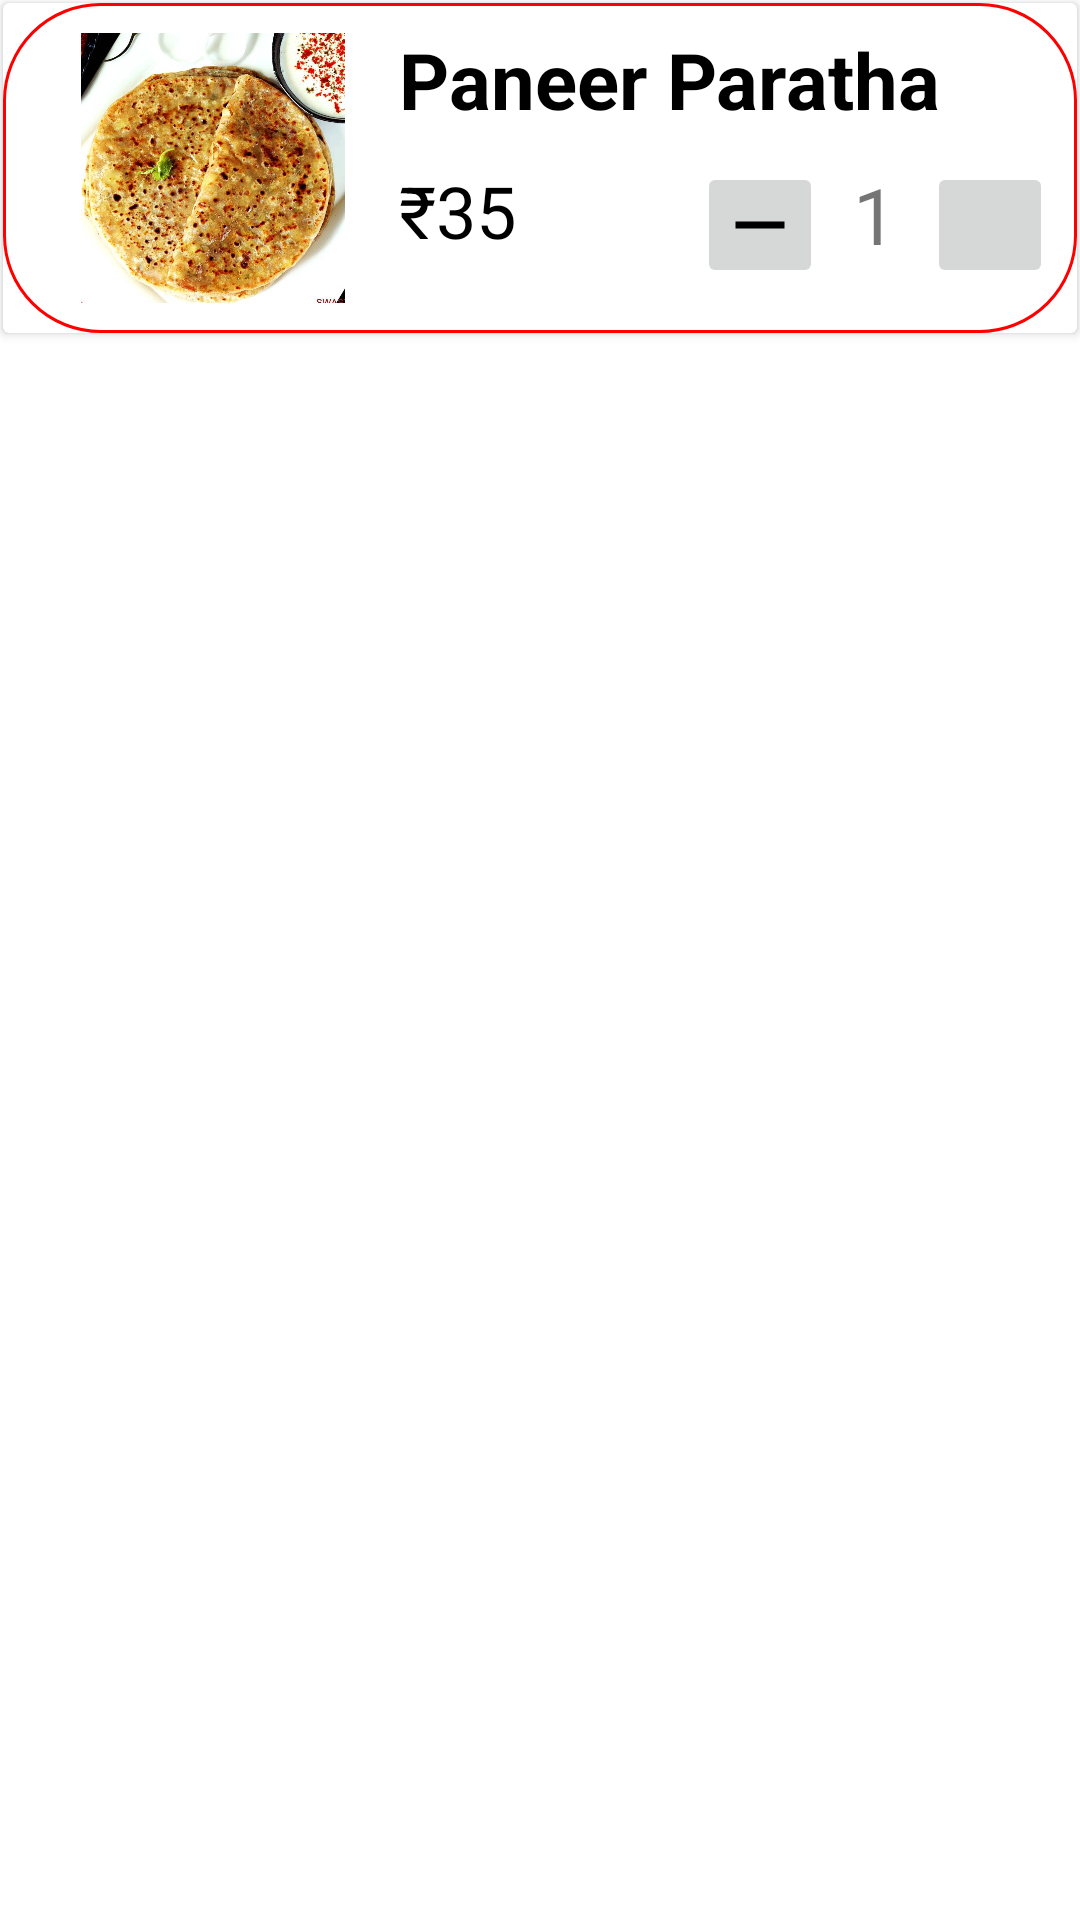

Icon bounding boxes for this 1080w x 1920h phone screenshot, format (x1, y1, x2, y2):
aalu: (81, 33, 345, 303)
remove: (709, 180, 811, 270)
